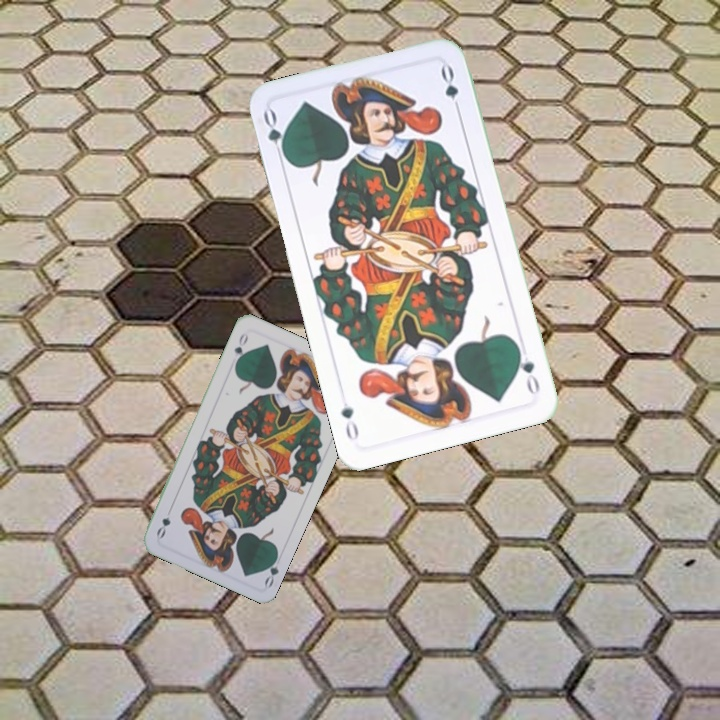GO: (259, 106, 290, 165), (513, 341, 543, 398), (260, 549, 282, 590), (230, 328, 251, 368)
